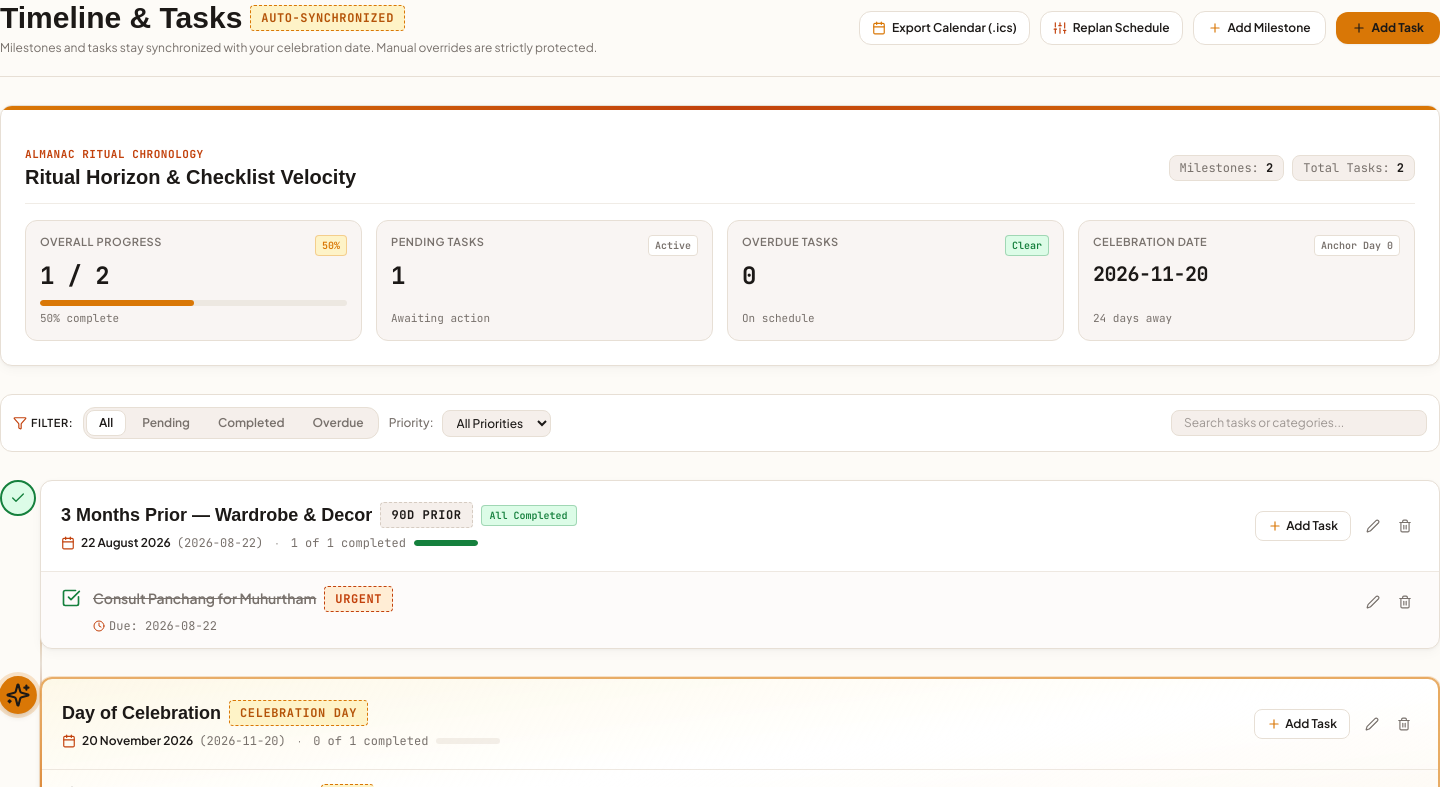
TimelineTasksTab Component › opens milestone modal when clicking Add Milestone
What coordinates should you click on to do the following:
click the button "Add Milestone"
I would click on:
 (1259, 28)
Its box is [1192, 11, 1326, 45].
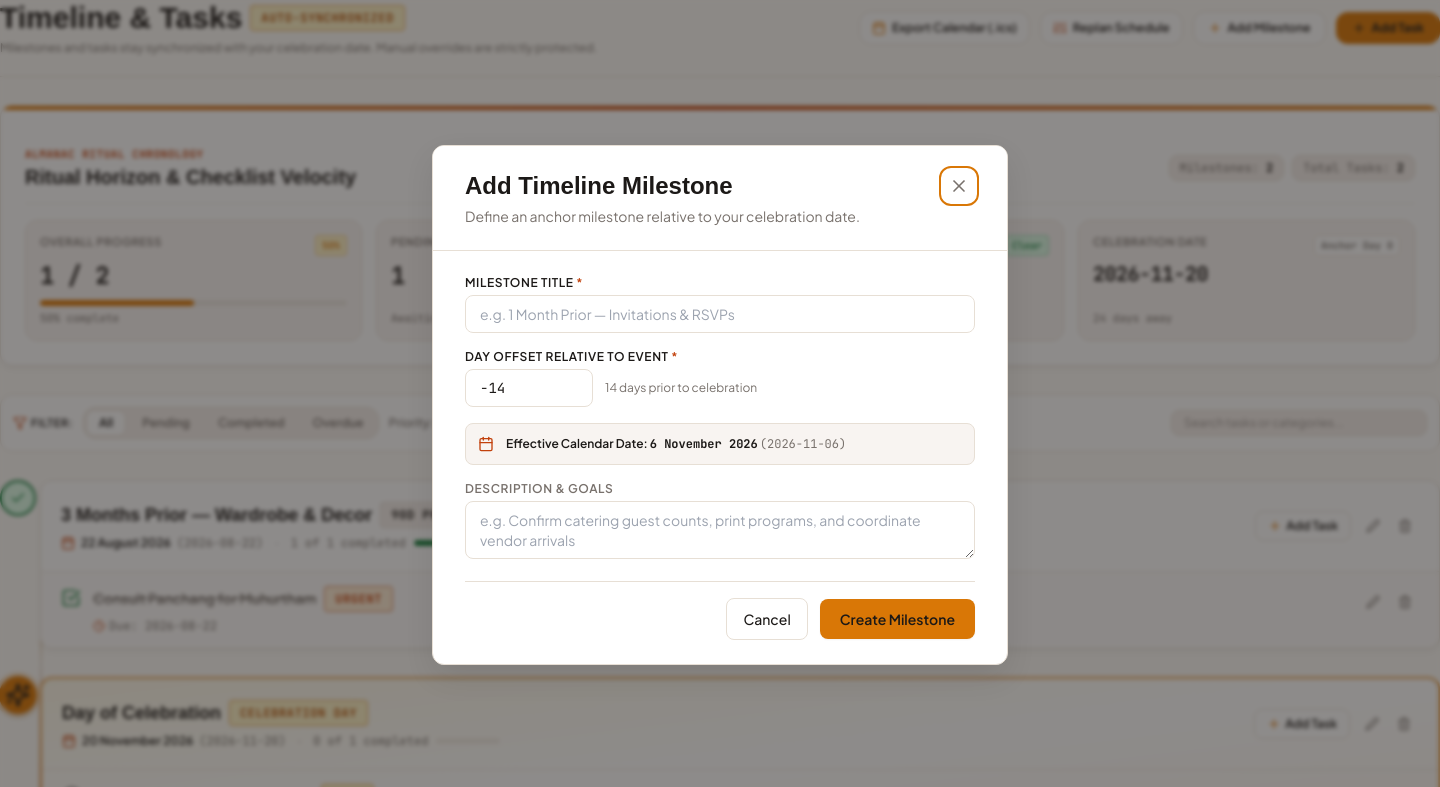
Expected: the heading "Add Timeline Milestone" is shown, [465, 172, 733, 199]
